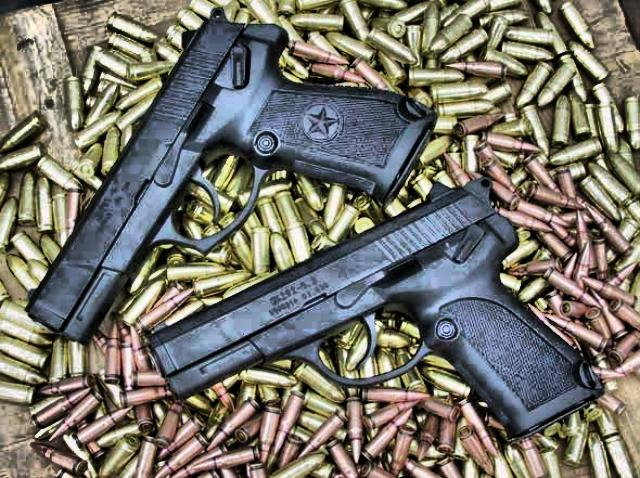pistol: (19, 5, 439, 347), (146, 176, 602, 430)
